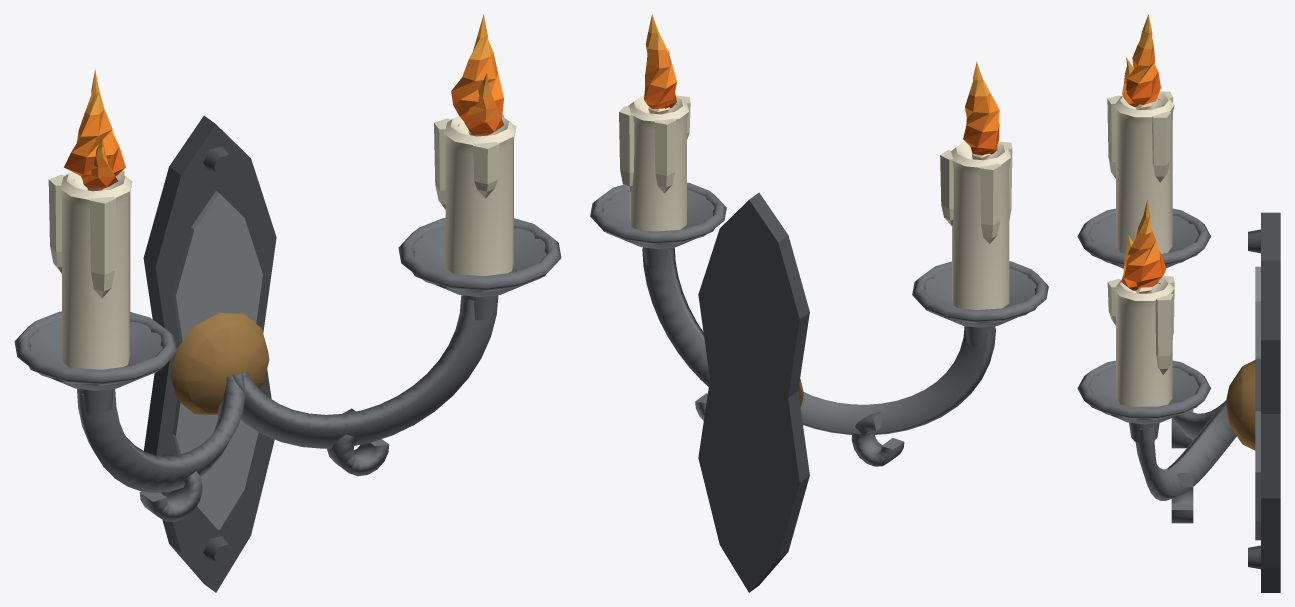
Rendered from SM_LPD_Light_SconceDouble_01.fbx.
The picture shows the model from 3 angles, left to right: view 1: azimuth 30°, elevation 25°; view 2: azimuth 150°, elevation 25°; view 3: azimuth 270°, elevation 25°; orthographic projection. The views are drawn at different scales.
Visible parts, largest first — view 1: SM_LPD_Light_SconceDouble_01; view 2: SM_LPD_Light_SconceDouble_01; view 3: SM_LPD_Light_SconceDouble_01.
Boxes of the visible parts, left/top/right/bottom form: SM_LPD_Light_SconceDouble_01: left=14, top=14, right=561, bottom=592; SM_LPD_Light_SconceDouble_01: left=590, top=14, right=1048, bottom=592; SM_LPD_Light_SconceDouble_01: left=1077, top=14, right=1280, bottom=592.
Bounding box in the file's own units: 0.4497 × 0.51 × 0.1864.
